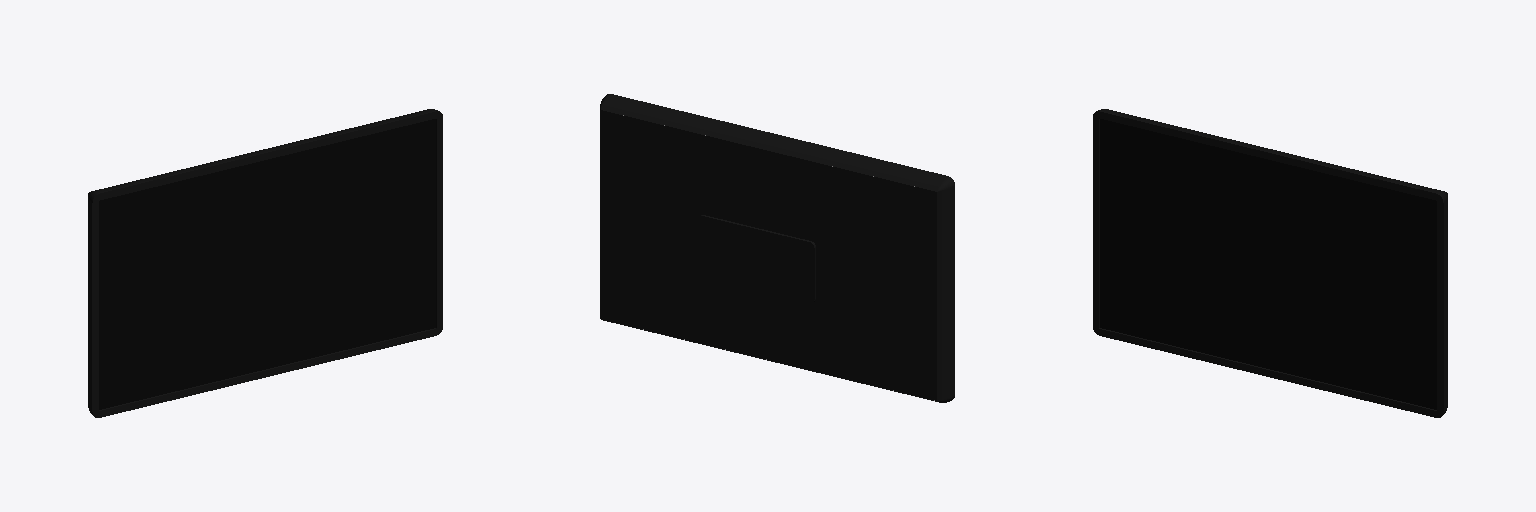
File: Flatscreen.obj
3 views of the same model, side by side, from view 1: azimuth 30°, elevation 25°; view 2: azimuth 150°, elevation 25°; view 3: azimuth 330°, elevation 25° (orthographic).
Parts seen in each view (by area): view 1: Mesh1 Group_13_1 Model; view 2: Mesh1 Group_13_1 Model; view 3: Mesh1 Group_13_1 Model.
Boxes of the visible parts, box(x1,y1,x2,y2) form: Mesh1 Group_13_1 Model: box(88, 109, 442, 417); Mesh1 Group_13_1 Model: box(600, 94, 954, 402); Mesh1 Group_13_1 Model: box(1093, 109, 1447, 417).
Size of the model in its own units: 0.9144 by 0.5588 by 0.1079.